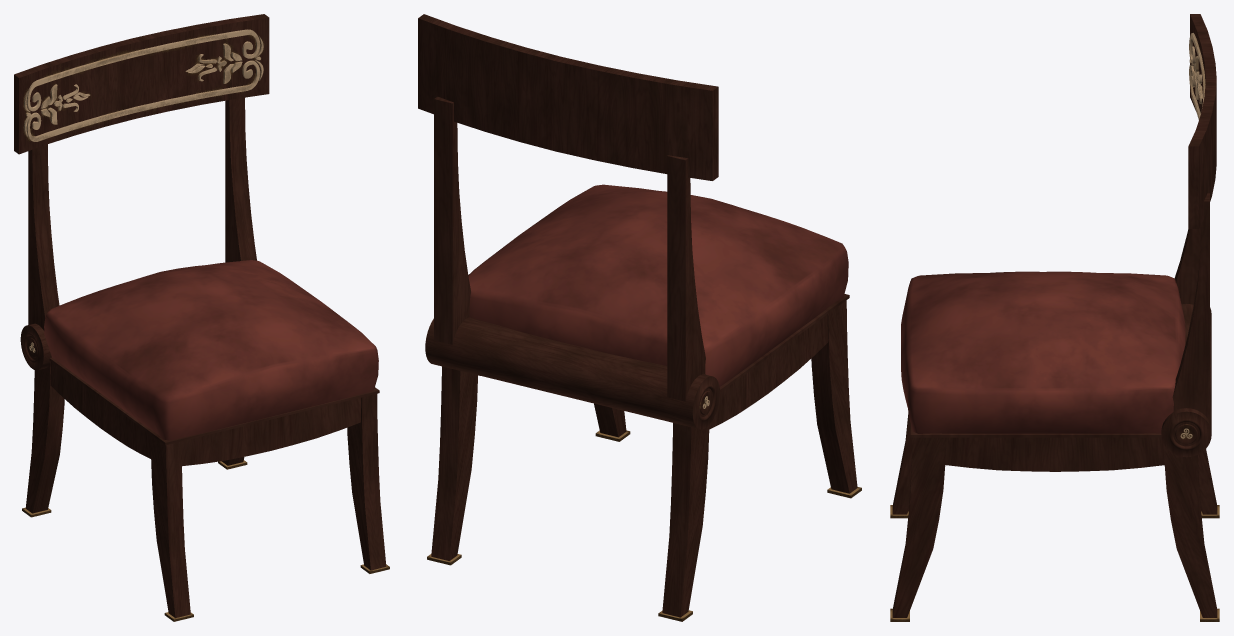
Rendered from obj_chair010_637979.glb.
3 renders of one model, left to right at view 1: azimuth 30°, elevation 25°; view 2: azimuth 150°, elevation 25°; view 3: azimuth 270°, elevation 25°, orthographic. The views are drawn at different scales.
Parts seen in each view (by area): view 1: obj_chair010_637979; view 2: obj_chair010_637979; view 3: obj_chair010_637979.
Part boxes in pixels (bbox=[...]): obj_chair010_637979: bbox=[14, 14, 389, 621]; obj_chair010_637979: bbox=[418, 14, 861, 621]; obj_chair010_637979: bbox=[890, 14, 1219, 621].
Bounding box in the file's own units: 0.4972 × 0.85 × 0.5234.
Materials: 1 (1 with a texture image).
